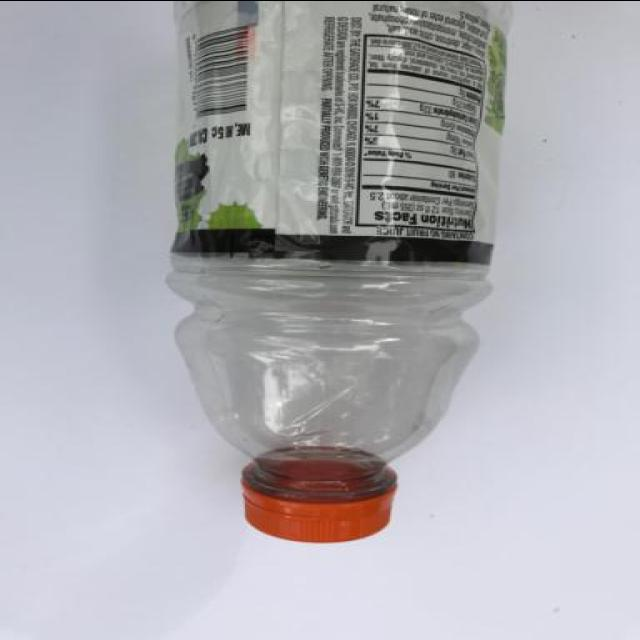litter: (146, 1, 522, 546)
